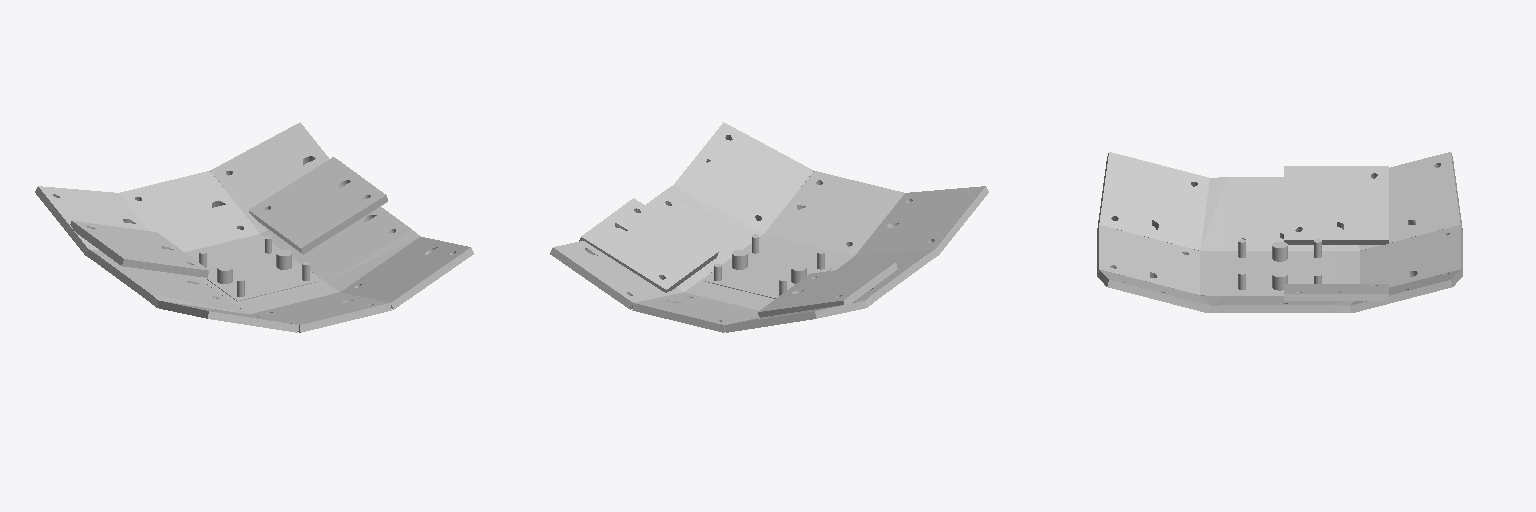
Rendered from piece.obj.
3 renders of one model, left to right at view 1: azimuth 30°, elevation 25°; view 2: azimuth 150°, elevation 25°; view 3: azimuth 270°, elevation 25°, orthographic.
Parts seen in each view (by area): view 1: piece3_Cube.010, piece1_Cube.009, piece2_Cube.003, socle.005_Cube.007, socle.004_Cube.006, socle.002_Cube.004, supportCamera_Cube.002, socle.003_Cube.005; view 2: piece1_Cube.009, piece2_Cube.003, socle.005_Cube.007, piece3_Cube.010, socle.004_Cube.006, supportCamera_Cube.002, socle.002_Cube.004, socle.003_Cube.005; view 3: piece1_Cube.009, piece3_Cube.010, piece2_Cube.003, socle.004_Cube.006, socle.003_Cube.005, supportCamera_Cube.002, socle.005_Cube.007, socle.002_Cube.004.
Boxes of the visible parts, x1,y1,x2,y2 form: piece3_Cube.010: [35, 122, 328, 254]; piece1_Cube.009: [157, 237, 473, 332]; piece2_Cube.003: [41, 130, 465, 322]; socle.005_Cube.007: [249, 157, 387, 254]; socle.004_Cube.006: [70, 221, 208, 277]; socle.002_Cube.004: [274, 206, 411, 282]; supportCamera_Cube.002: [206, 247, 318, 301]; socle.003_Cube.005: [95, 255, 234, 304]; piece1_Cube.009: [673, 122, 988, 255]; piece2_Cube.003: [558, 128, 987, 321]; socle.005_Cube.007: [579, 198, 718, 292]; piece3_Cube.010: [550, 241, 866, 332]; socle.004_Cube.006: [758, 262, 897, 317]; supportCamera_Cube.002: [705, 247, 833, 298]; socle.002_Cube.004: [645, 191, 749, 282]; socle.003_Cube.005: [837, 255, 928, 299]; piece1_Cube.009: [1097, 152, 1209, 312]; piece3_Cube.010: [1350, 152, 1462, 312]; piece2_Cube.003: [1100, 153, 1457, 312]; socle.004_Cube.006: [1284, 166, 1388, 244]; socle.003_Cube.005: [1227, 177, 1332, 250]; supportCamera_Cube.002: [1233, 253, 1326, 292]; socle.005_Cube.007: [1284, 284, 1388, 300]; socle.002_Cube.004: [1227, 296, 1332, 312].
Bounding box in the file's own units: 23.7 × 6.67 × 27.86.